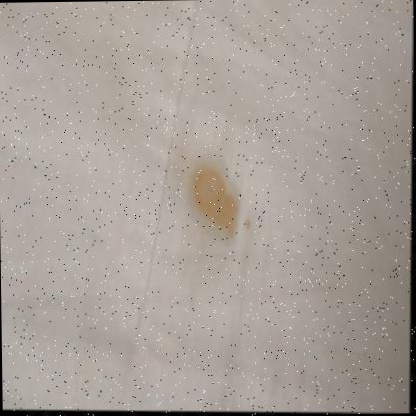kimchi: (182, 161, 246, 243)
